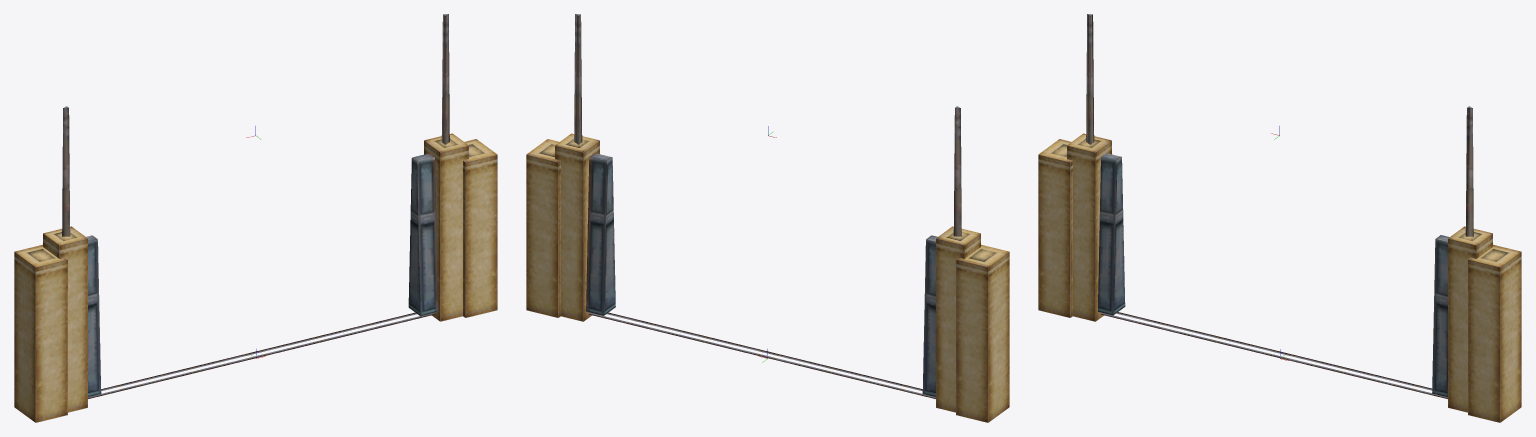
The model's file is egyptian-gate-open.glb.
3 views of the same model, side by side, from view 1: azimuth 30°, elevation 25°; view 2: azimuth 150°, elevation 25°; view 3: azimuth 330°, elevation 25° (orthographic).
Visible parts, largest first — view 1: building e gate_openModel; view 2: building e gate_openModel; view 3: building e gate_openModel.
Part boxes in pixels (left/top/right/bottom): building e gate_openModel: left=14, top=14, right=497, bottom=422; building e gate_openModel: left=526, top=14, right=1009, bottom=422; building e gate_openModel: left=1038, top=14, right=1521, bottom=422.
Bounding box in the file's own units: 12.12 × 7.47 × 0.9727.
Materials: 2 (1 with a texture image).
